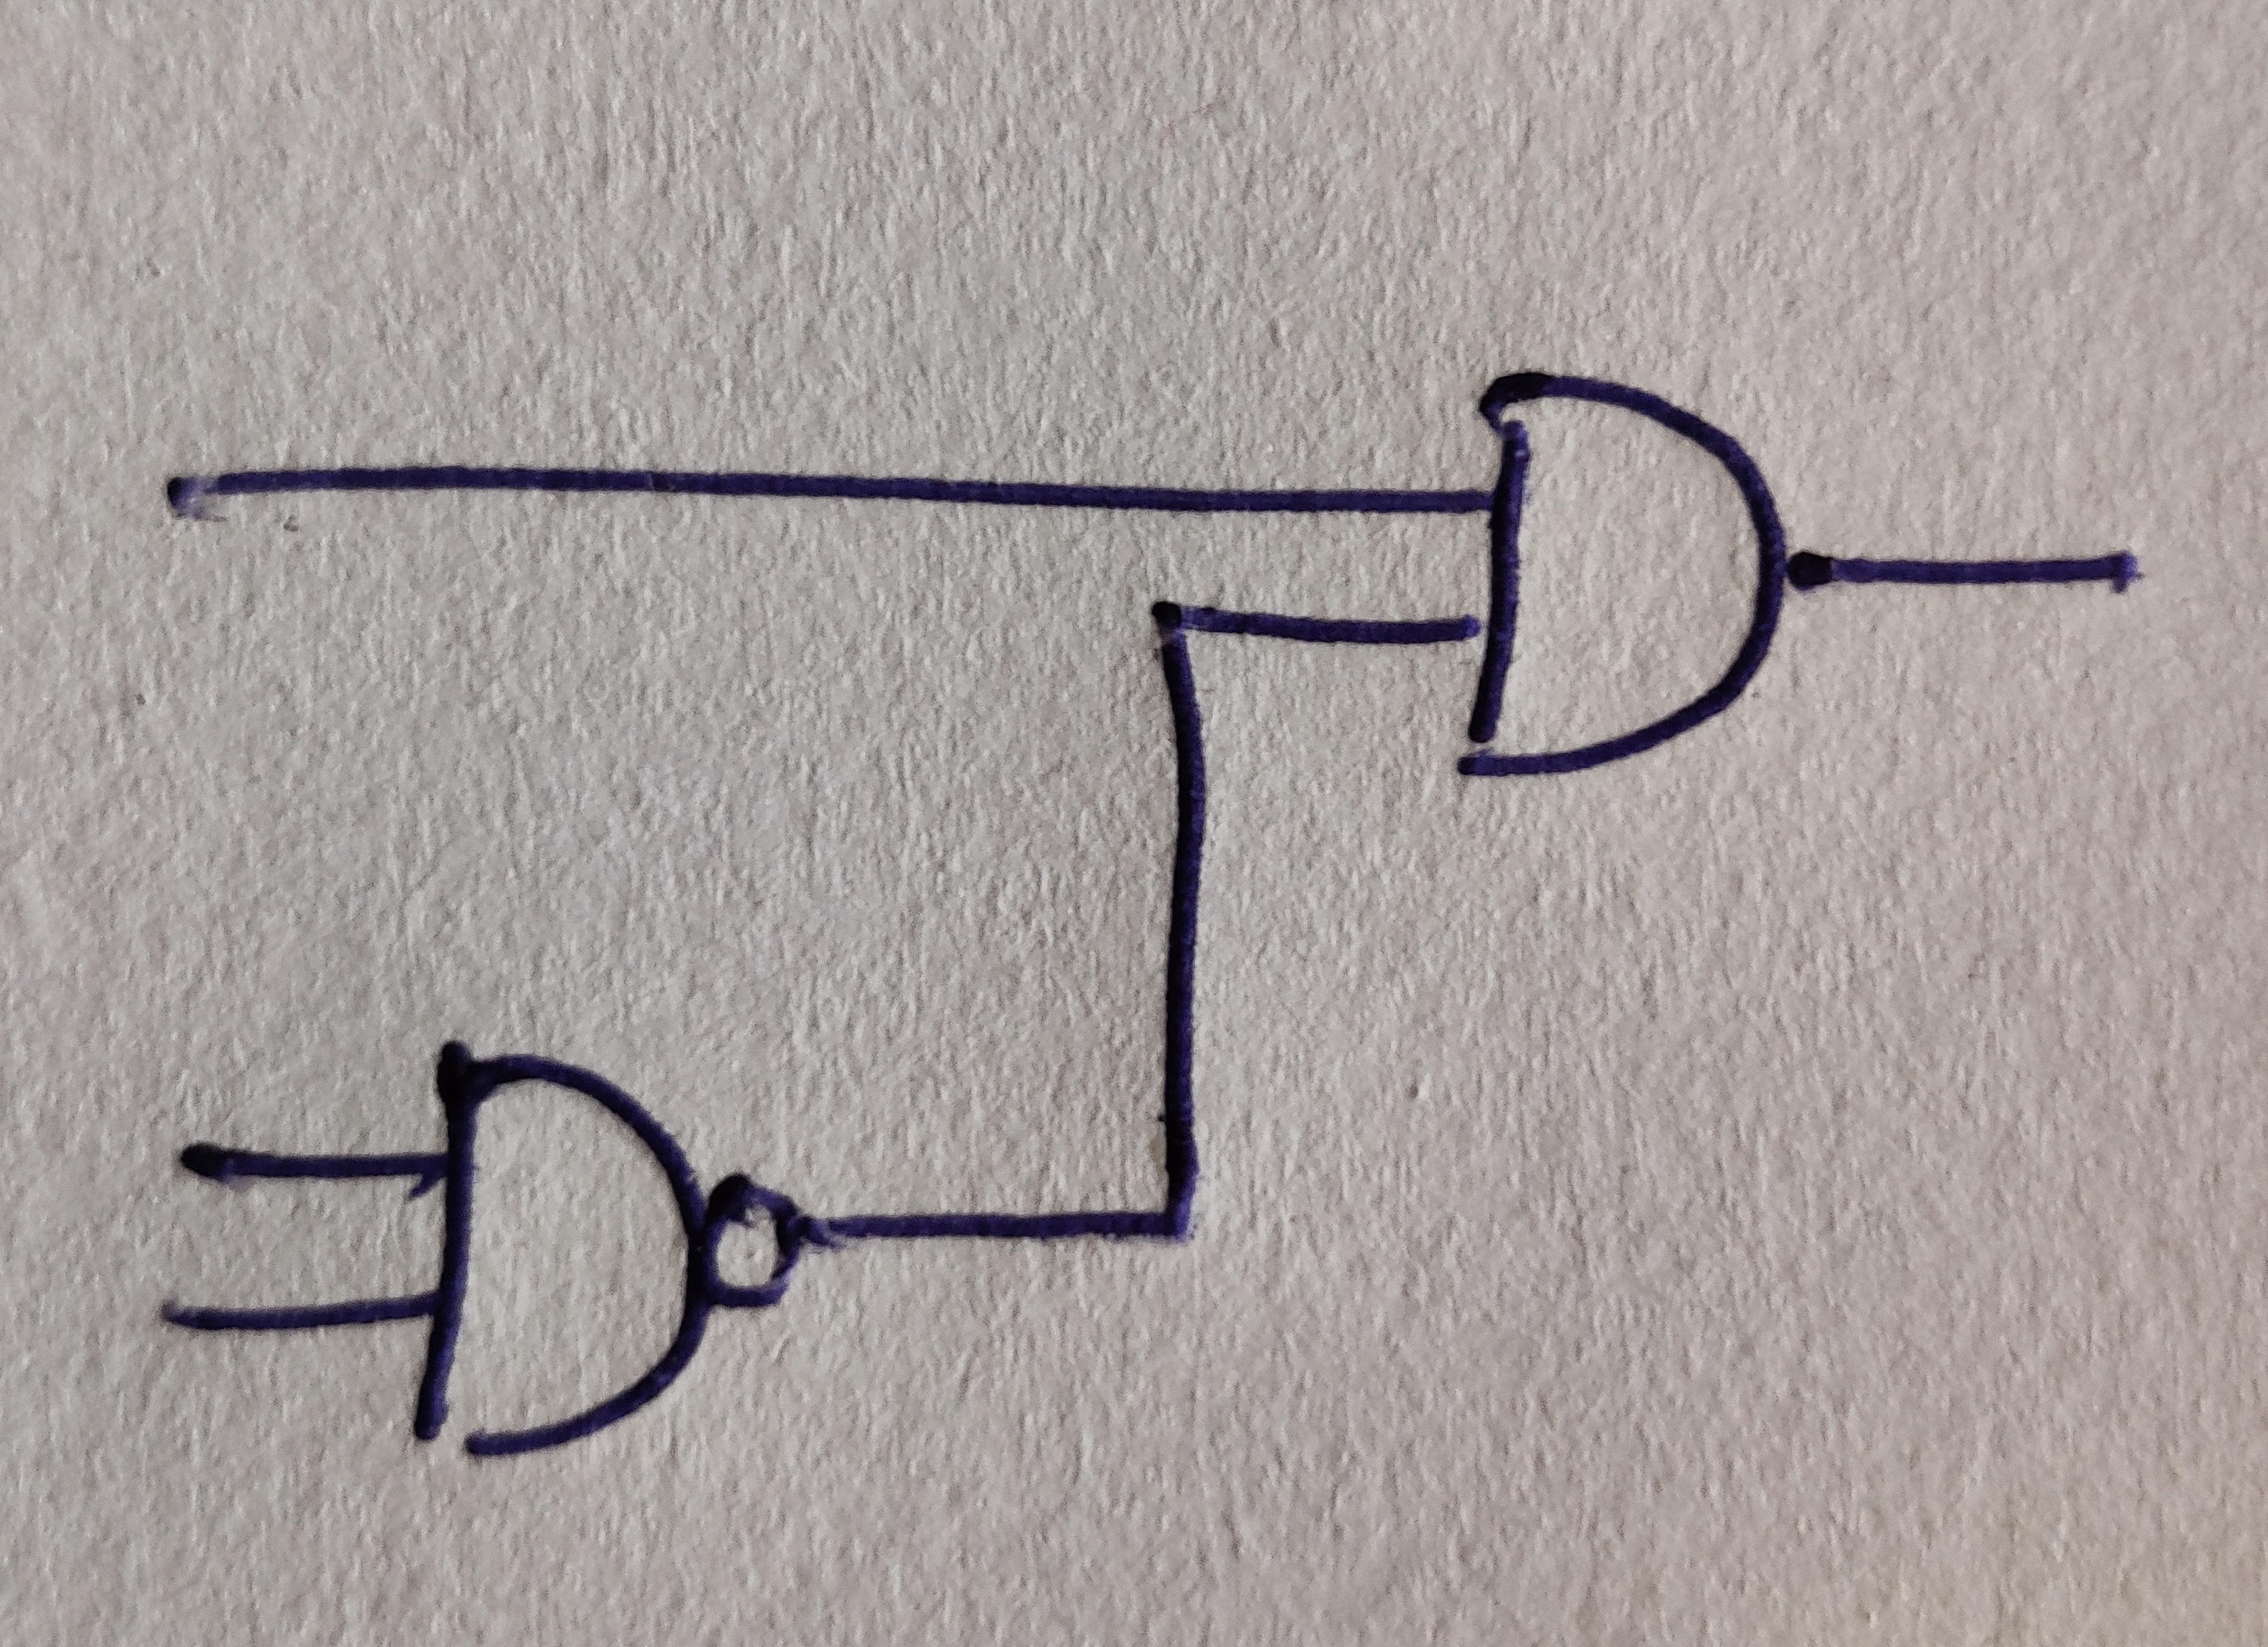and: (1460, 372, 1786, 779), (416, 1043, 706, 1457)
not: (703, 1173, 805, 1311)
